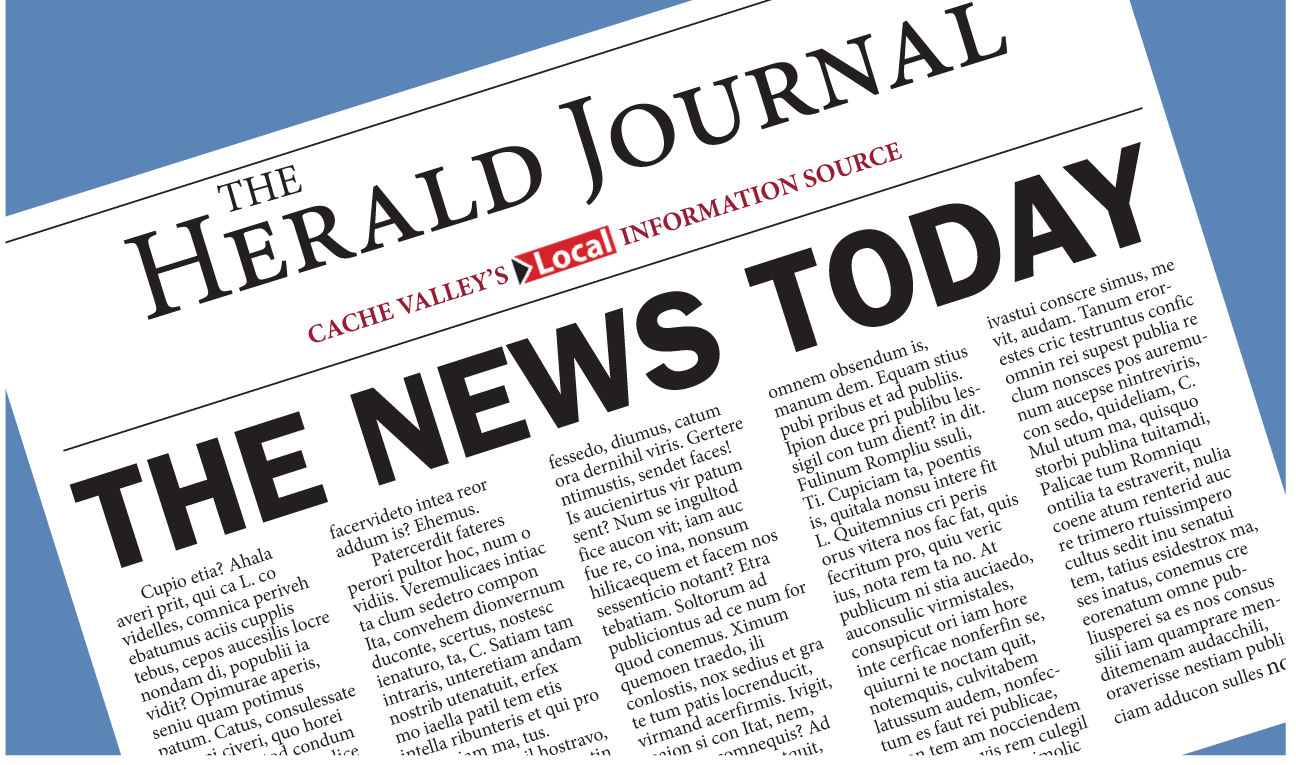news_paper: (9, 1, 1296, 765)
